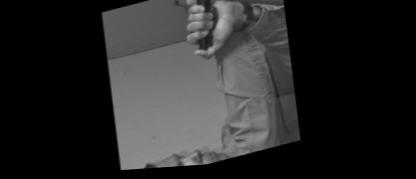pistol: (165, 0, 242, 32)
